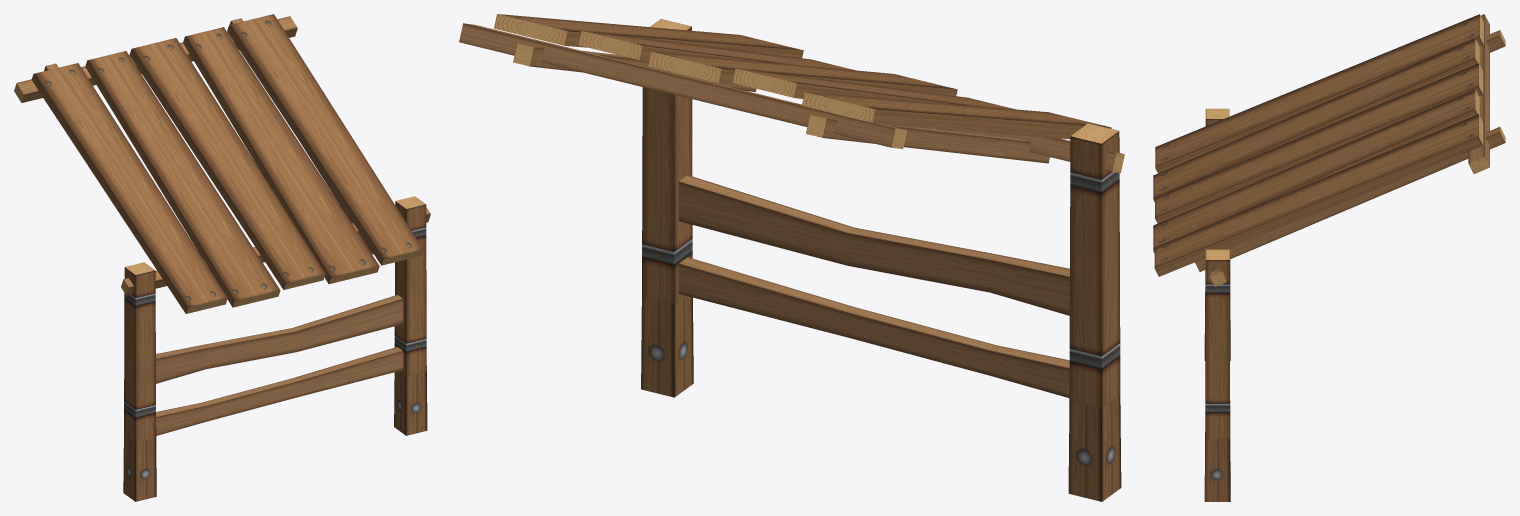
Rendered from Shelters_01.FBX.
3 renders of one model, left to right at view 1: azimuth 30°, elevation 25°; view 2: azimuth 150°, elevation 25°; view 3: azimuth 270°, elevation 25°, orthographic. The views are drawn at different scales.
Parts seen in each view (by area): view 1: Shelters_01; view 2: Shelters_01; view 3: Shelters_01.
Part boxes in pixels (x1,y1,x2,y2): Shelters_01: (14, 14, 430, 501); Shelters_01: (459, 14, 1124, 501); Shelters_01: (1153, 14, 1505, 501).
Size of the model in its own units: 2.66 by 2.78 by 2.52.
